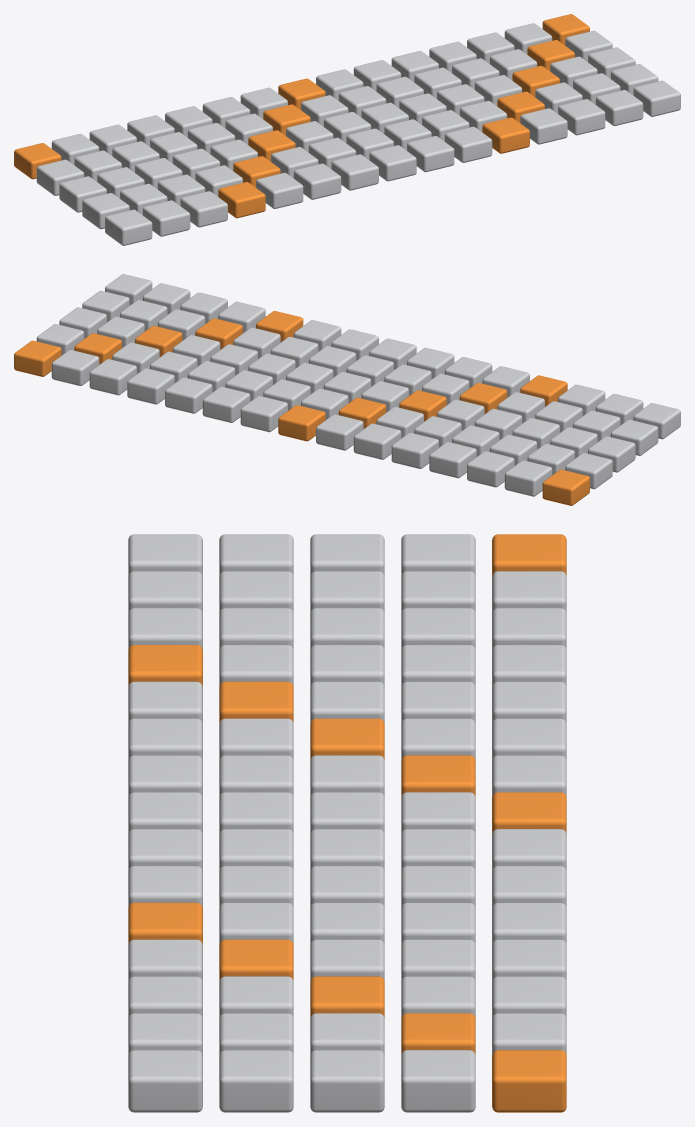
3 views of the same model, one above another, from view 1: azimuth 30°, elevation 25°; view 2: azimuth 150°, elevation 25°; view 3: azimuth 270°, elevation 25° (orthographic). The views are drawn at different scales.
Visible parts, largest first — view 1: part_096; view 2: part_096; view 3: part_096.
Boxes of the visible parts, x1,y1,x2,y2 form: part_096: [14, 14, 680, 245]; part_096: [14, 274, 680, 505]; part_096: [128, 534, 566, 1112].
Size of the model in its own units: 2.27 by 0.07 by 0.7712.
